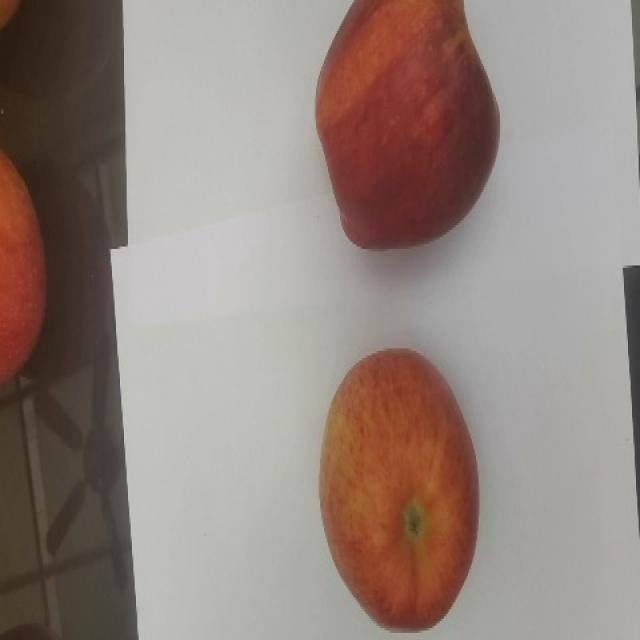Apple: (308, 0, 508, 256), (315, 347, 482, 636), (0, 156, 54, 382)
